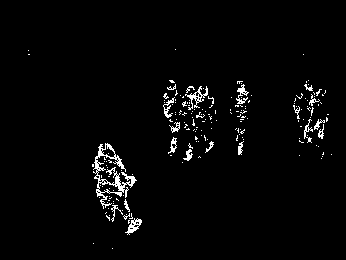person: (91, 141, 143, 236), (189, 84, 218, 156), (160, 77, 184, 155), (229, 78, 253, 156), (304, 86, 332, 151), (178, 84, 199, 162), (291, 77, 315, 145)
